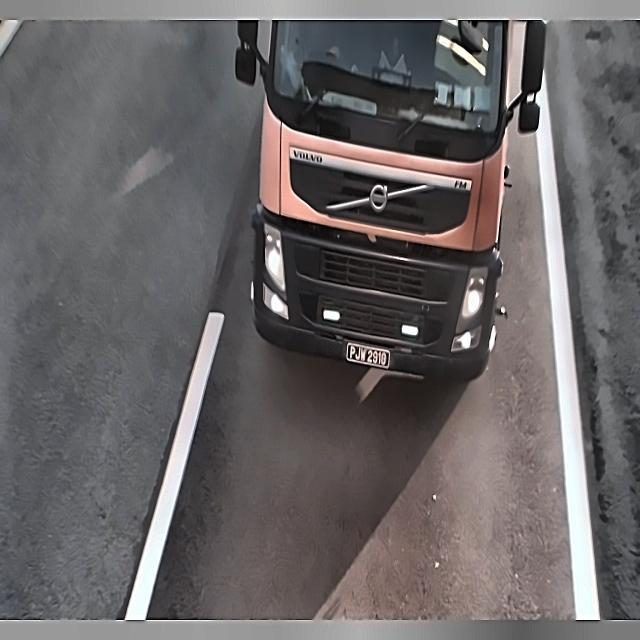car: (335, 333, 399, 375)
